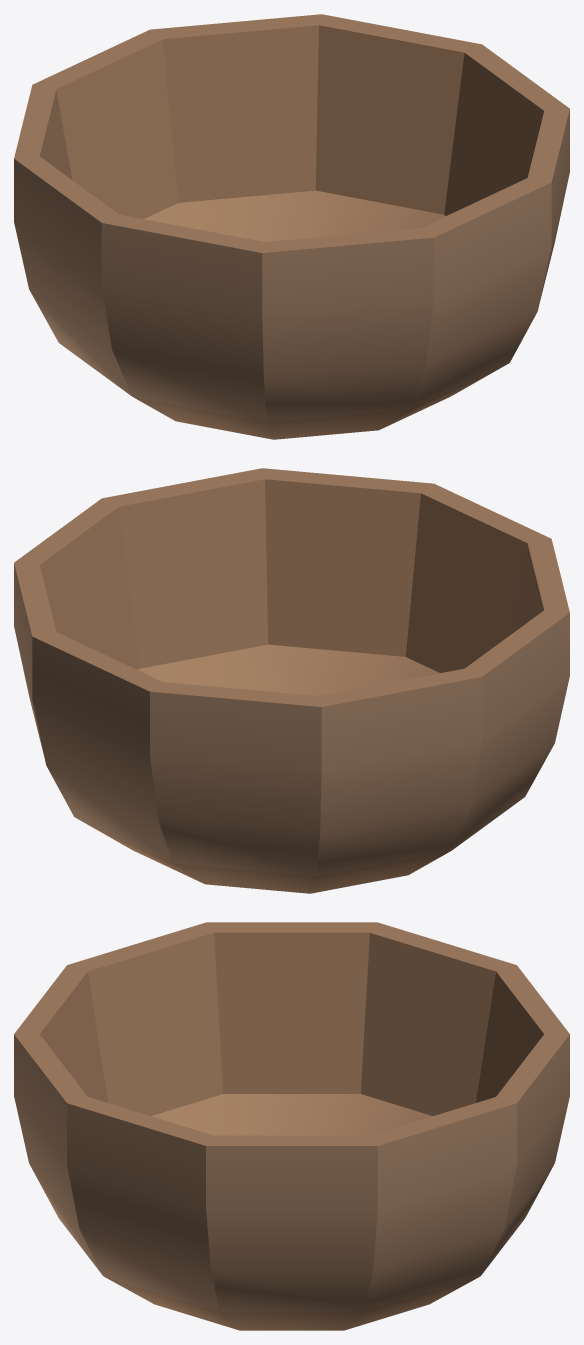
Rendered from miska.fbx.
3 renders of one model, top to bottom at view 1: azimuth 30°, elevation 25°; view 2: azimuth 150°, elevation 25°; view 3: azimuth 270°, elevation 25°, orthographic. The views are drawn at different scales.
Parts seen in each view (by area): view 1: miska_L; view 2: miska_L; view 3: miska_L.
Boxes of the visible parts, x1=… form: miska_L: x1=14, y1=14, x2=569, y2=439; miska_L: x1=14, y1=468, x2=569, y2=893; miska_L: x1=14, y1=922, x2=569, y2=1330.
Bounding box in the file's own units: 144 × 137 × 65.36.
